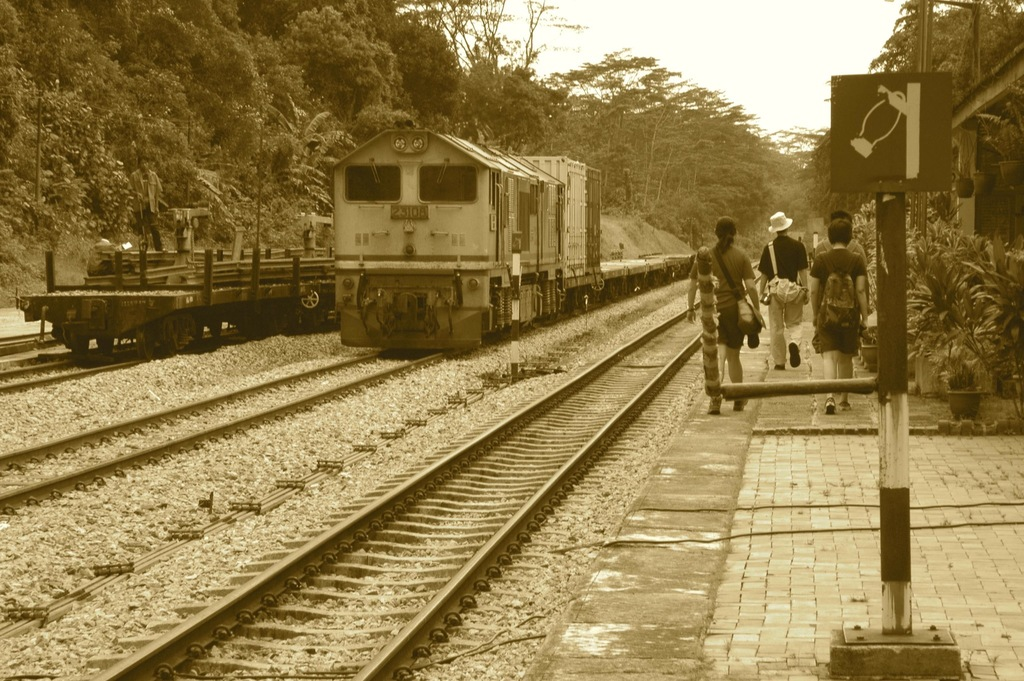train: (333, 124, 694, 352)
